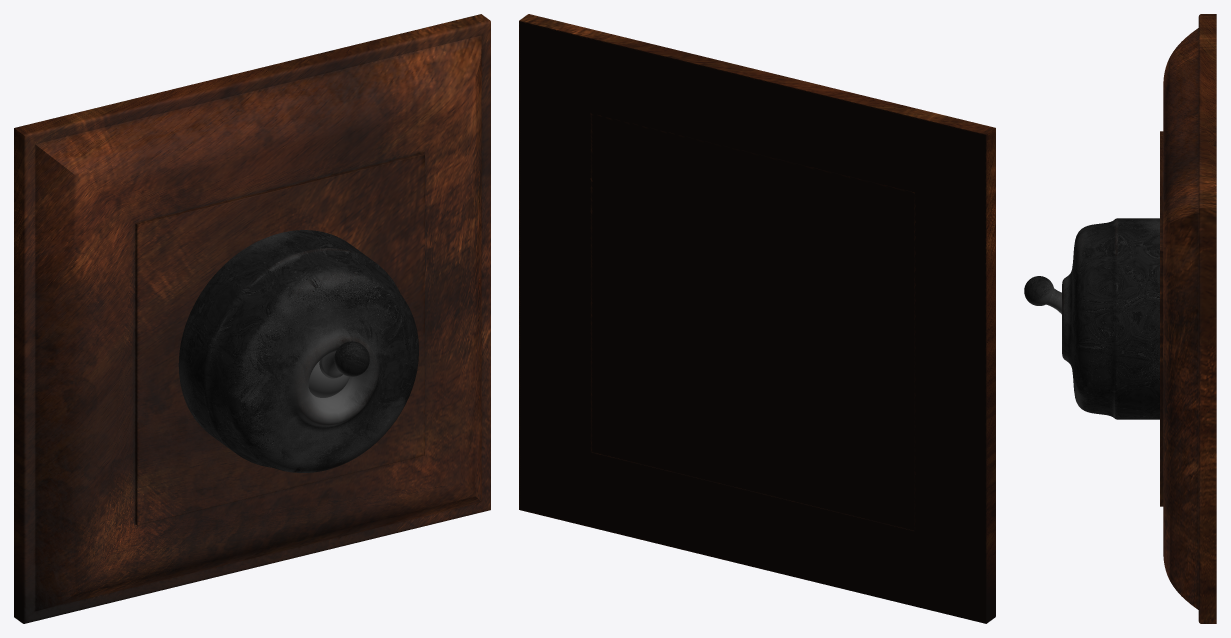
3 renders of one model, left to right at view 1: azimuth 30°, elevation 25°; view 2: azimuth 150°, elevation 25°; view 3: azimuth 270°, elevation 25°, orthographic. The views are drawn at different scales.
Visible parts, largest first — view 1: Body3, Body3_2, Body1; view 2: Body3; view 3: Body3, Body3_2, Body1.
Boxes of the visible parts, box(x1,y1,x2,y2) form: Body3: box(14, 14, 490, 623); Body3_2: box(178, 230, 418, 472); Body1: box(308, 341, 369, 397); Body3: box(519, 14, 995, 623); Body3: box(1160, 14, 1216, 623); Body3_2: box(1062, 218, 1159, 419); Body1: box(1024, 276, 1061, 314).
Size of the model in its own units: 1.04 by 1.04 by 0.4365.
Materials: 2 (2 with a texture image).
